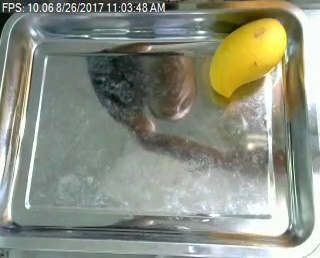Mango: (210, 12, 290, 100)
